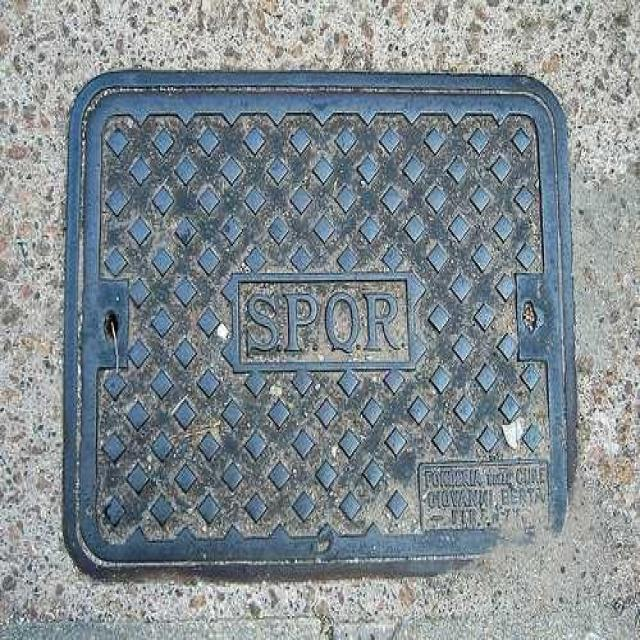manhole: (64, 72, 575, 574)
